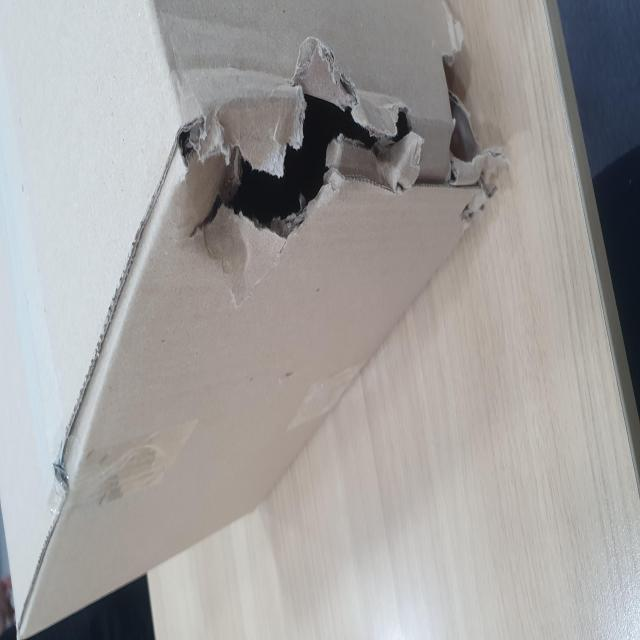damaged: (212, 341, 344, 640)
